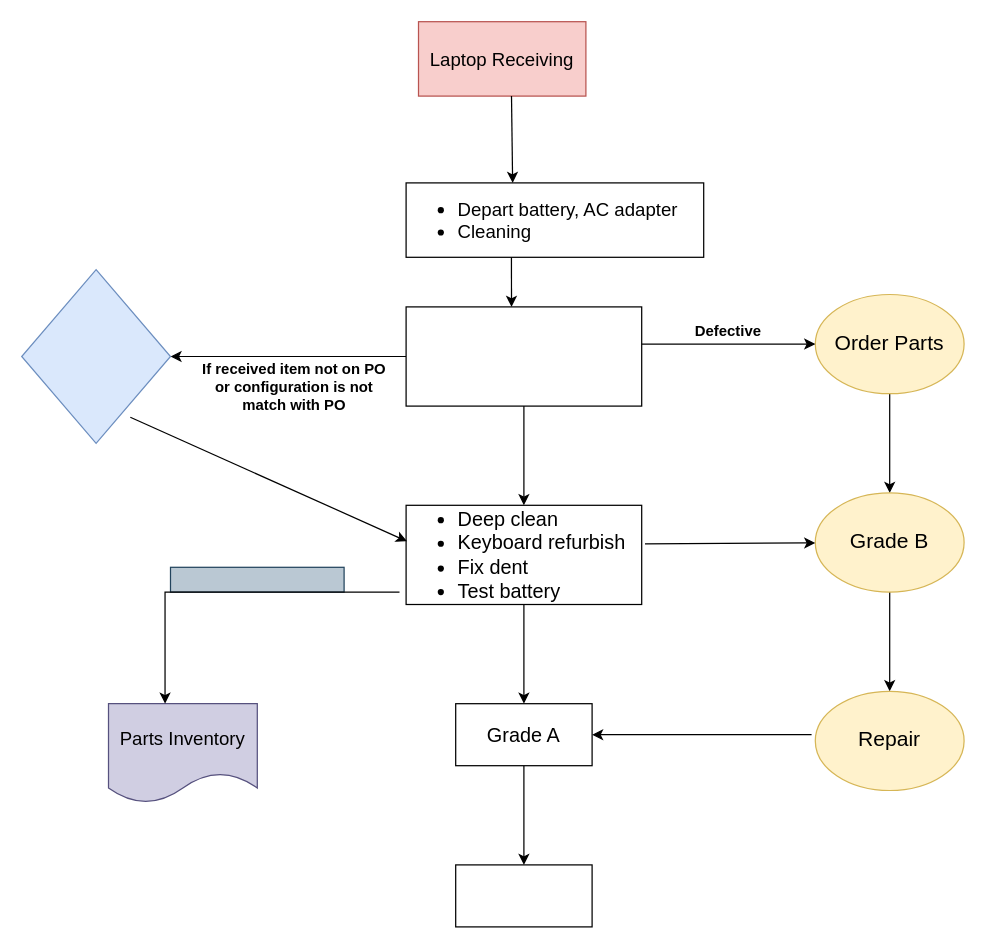
The diagram is 986 pixels wide and 949 high, and some of its shapes have lost their labels. The box of each missing label's shape, as (x1, y1, x2, y2) in pixels:
Battery/AC adapter: (169, 566, 344, 592)
Laptop Inventory: (454, 864, 592, 927)
modify configuration on ERP: (20, 268, 170, 443)
Scan SN Verify configuration Check condition: (405, 306, 642, 406)
